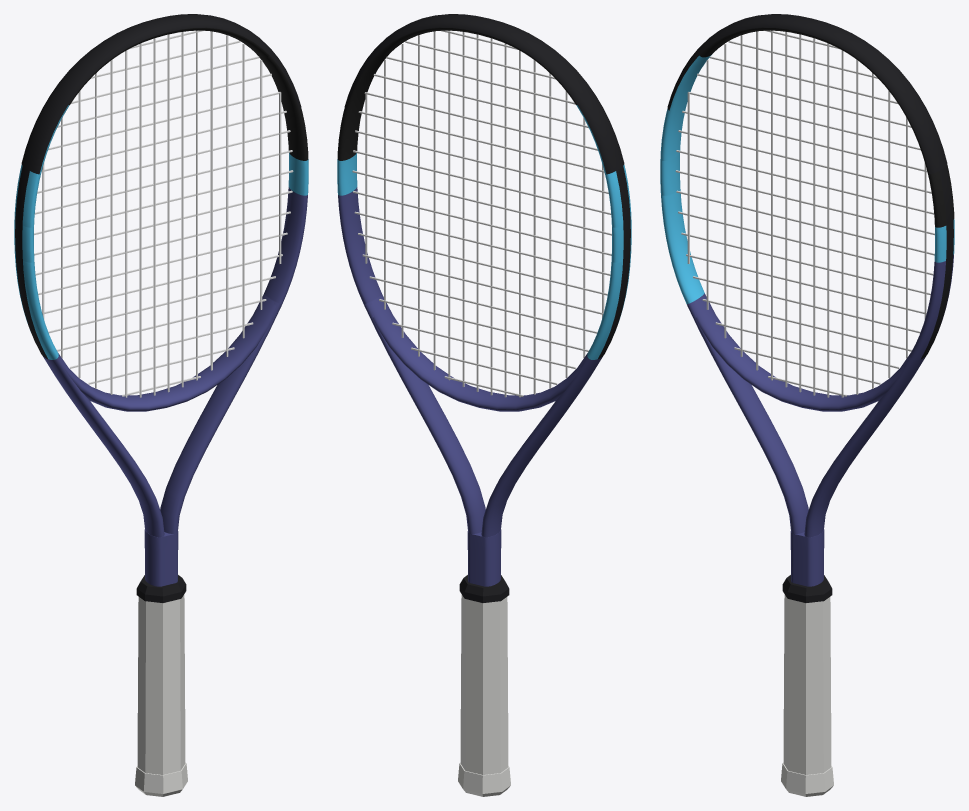
Rendered from dunlop-fx-500-super-lite-2025.glb.
The picture shows the model from 3 angles, left to right: view 1: azimuth 30°, elevation 25°; view 2: azimuth 150°, elevation 25°; view 3: azimuth 330°, elevation 25°; orthographic projection.
Visible parts, largest first — view 1: frame, strings_mains, strings_crosses, grip, bumper, grommets, butt_cap, collar; view 2: frame, strings_mains, strings_crosses, grip, bumper, grommets, butt_cap, collar; view 3: frame, strings_mains, strings_crosses, grip, bumper, grommets, butt_cap, collar.
Part boxes in pixels (x1,y1,x2,y2): frame: [14, 27, 308, 586]; strings_mains: [42, 30, 281, 397]; strings_crosses: [34, 30, 293, 396]; grip: [137, 594, 185, 774]; bumper: [21, 14, 301, 174]; grommets: [15, 166, 47, 359]; butt_cap: [135, 762, 187, 796]; collar: [136, 575, 186, 602]; frame: [337, 27, 631, 586]; strings_mains: [365, 30, 604, 397]; strings_crosses: [352, 30, 611, 396]; grip: [460, 594, 508, 774]; bumper: [344, 14, 624, 174]; grommets: [598, 166, 630, 359]; butt_cap: [458, 762, 510, 796]; collar: [459, 575, 509, 602]; frame: [660, 27, 954, 586]; strings_mains: [687, 30, 926, 397]; strings_crosses: [675, 30, 934, 396]; grip: [783, 594, 831, 774]; bumper: [667, 14, 947, 174]; grommets: [921, 166, 953, 359]; butt_cap: [781, 762, 833, 796]; collar: [782, 575, 832, 602].
Bounding box in the file's own units: 0.2687 × 0.6861 × 0.0377.
